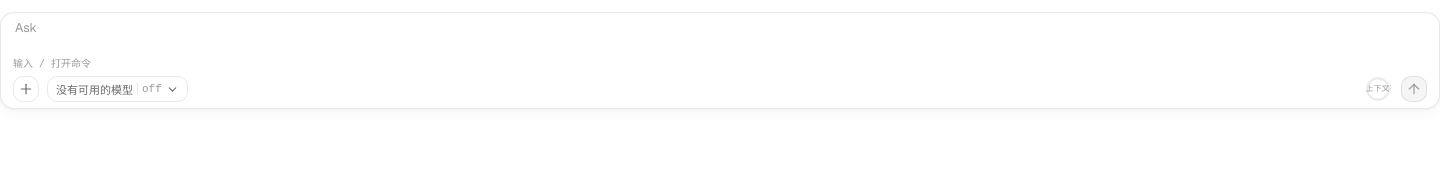
Test: Composer file mentions › keeps the textarea usable after dismissing the palette without selecting a file
The width and height of the screenshot is (1440, 172).
Type "@" into the dropdown with placeholder "Ask" at (720, 35), box [13, 17, 1427, 53]
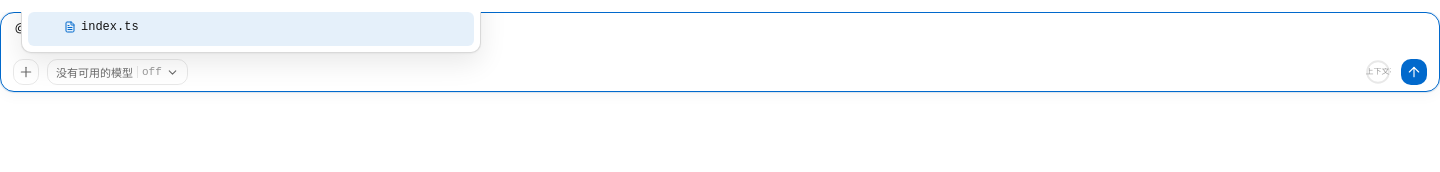
Now the option "index.ts" is shown, box [28, 12, 474, 46]
Press Escape
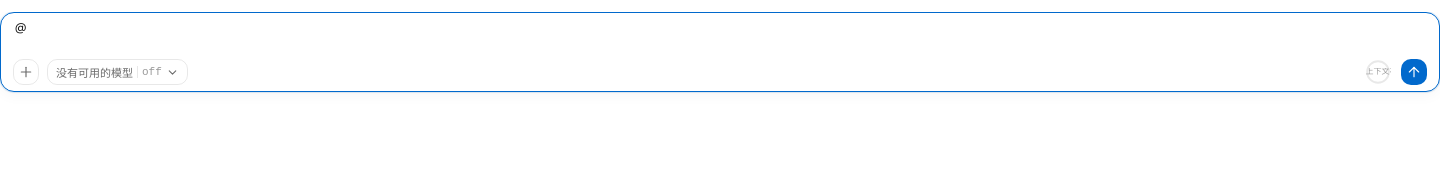
Type "继续输入" into the dropdown with placeholder "Ask" at (720, 35), box [13, 17, 1427, 53]
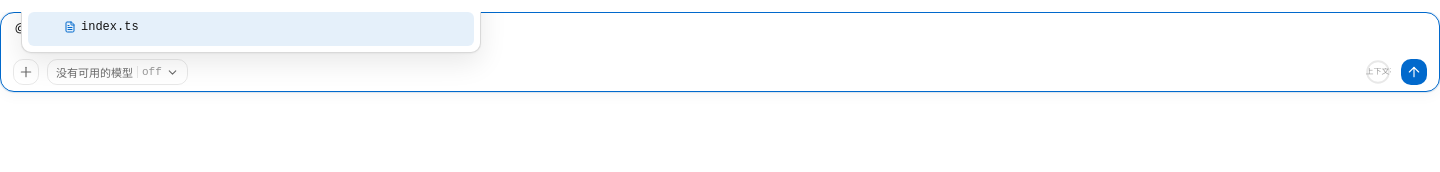
Now the dropdown with placeholder "Ask" holds "@继续输入", box [13, 17, 1427, 53]
